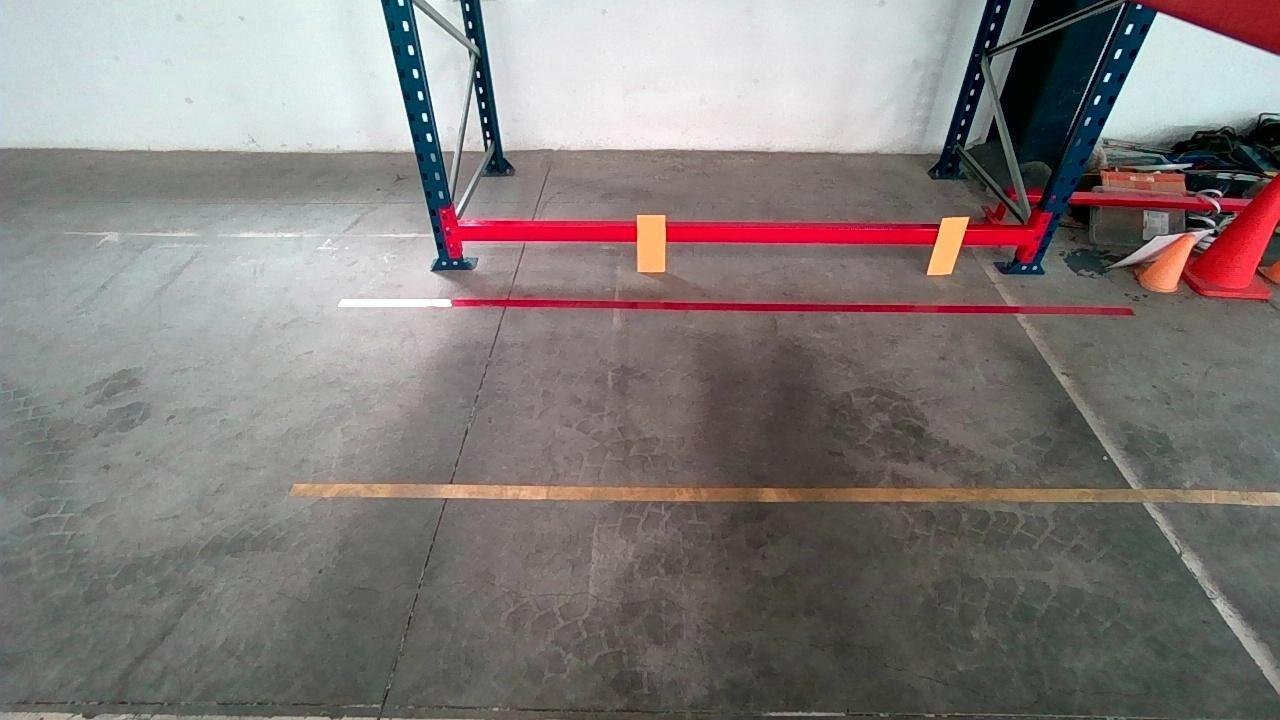h_rack: (458, 216, 1038, 252)
orange_strip: (927, 215, 971, 273), (637, 212, 667, 272)
red_line: (333, 294, 1137, 323)
yellow_line: (291, 478, 1277, 505)
